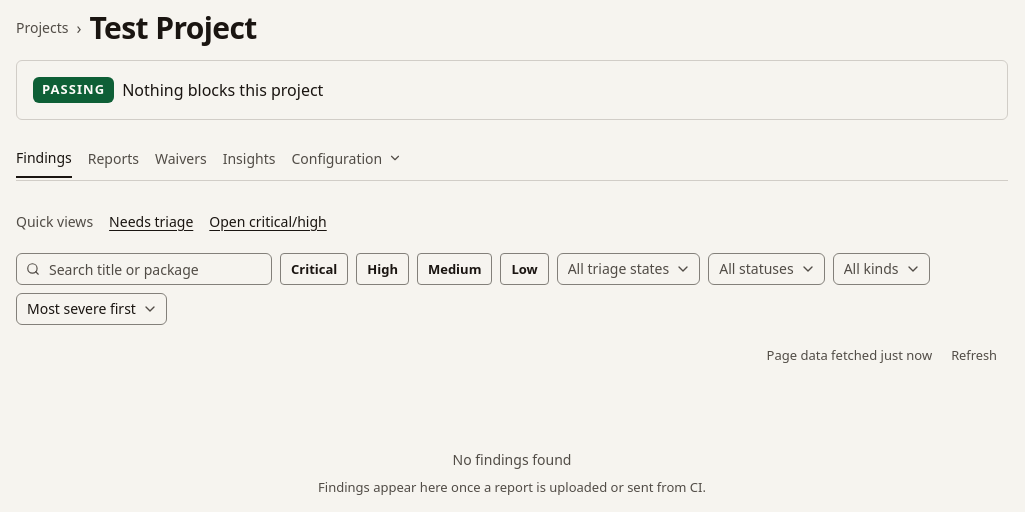
Scenario: keeps project navigation in sync with the selected tab
This screenshot has width=1025, height=512.
Expected: the text "No findings found" is shown, [453, 449, 572, 470]
Click the link "Reports" at point(113, 162), box [88, 148, 139, 176]
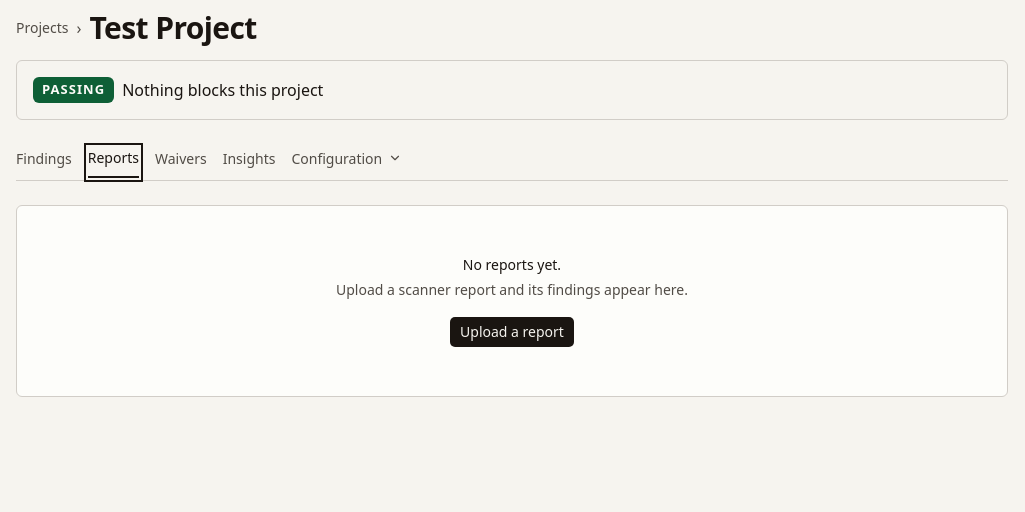
Expected: the text "No reports yet." is shown, [463, 255, 561, 274]
